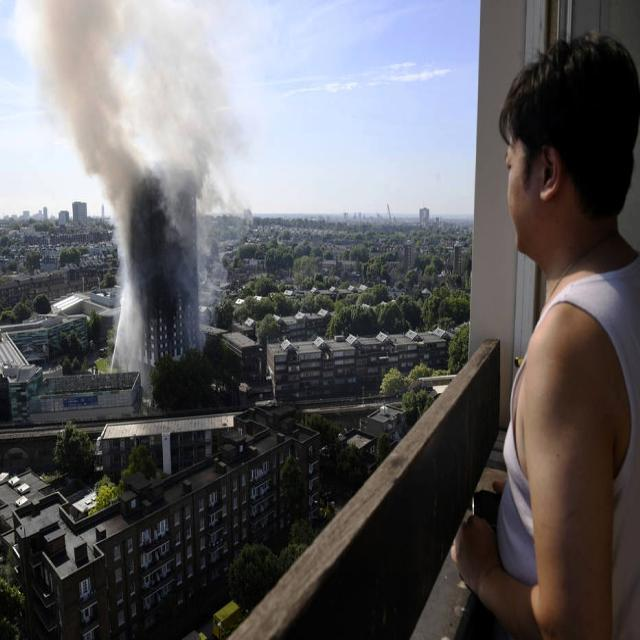Smoke: (33, 0, 209, 269)
